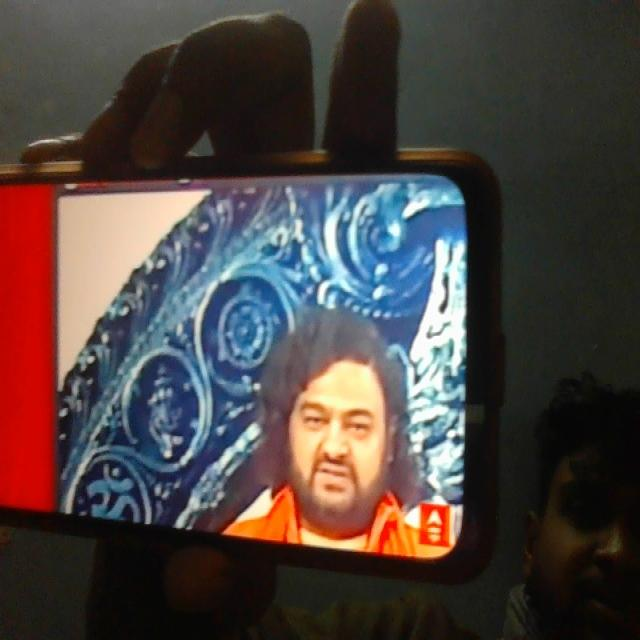fake: (272, 286, 401, 530)
